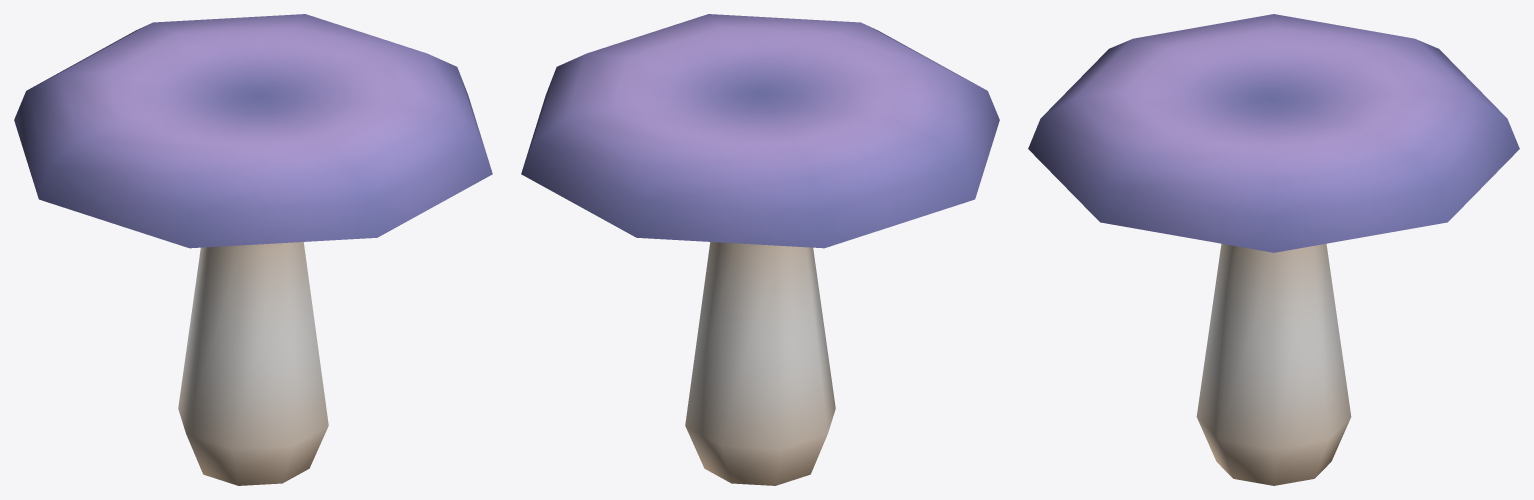
File: Test_Mushroom_01.fbx
3 renders of one model, left to right at view 1: azimuth 30°, elevation 25°; view 2: azimuth 150°, elevation 25°; view 3: azimuth 270°, elevation 25°, orthographic.
Visible parts, largest first — view 1: Mushroom_01; view 2: Mushroom_01; view 3: Mushroom_01.
Part boxes in pixels (left/top/right/bottom): Mushroom_01: left=14, top=14, right=492, bottom=485; Mushroom_01: left=521, top=14, right=999, bottom=485; Mushroom_01: left=1028, top=14, right=1519, bottom=485.
Size of the model in its own units: 3.56 by 2.95 by 3.56.
1 material, 1 textured.
